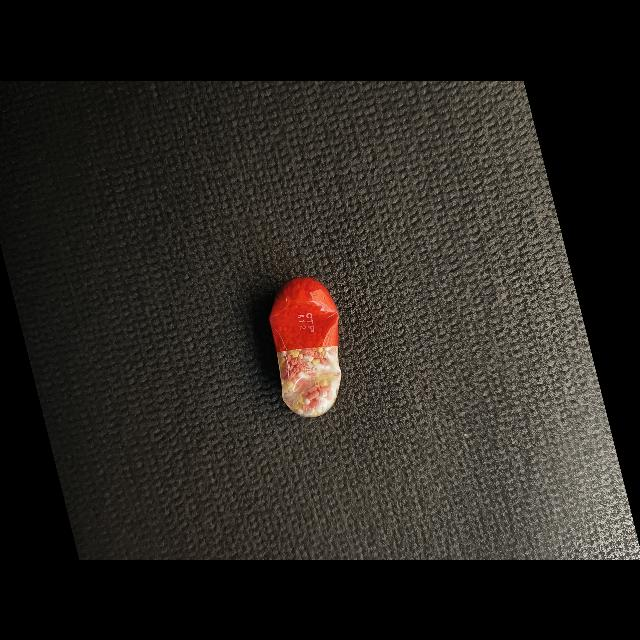Defective Capsule: (269, 276, 342, 417)
